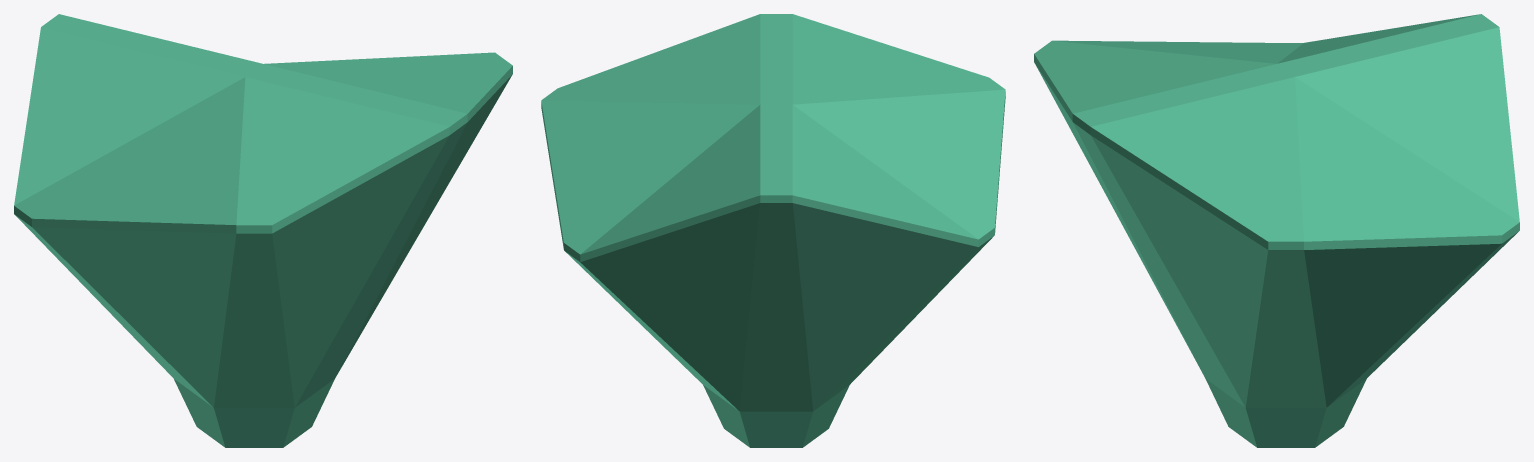
The model's file is cornLeafCollider.obj.
3 renders of one model, left to right at view 1: azimuth 30°, elevation 25°; view 2: azimuth 150°, elevation 25°; view 3: azimuth 270°, elevation 25°, orthographic. The views are drawn at different scales.
Visible parts, largest first — view 1: corn.002; view 2: corn.002; view 3: corn.002.
Part boxes in pixels (left/top/right/bottom): corn.002: left=14, top=14, right=512, bottom=447; corn.002: left=541, top=14, right=1005, bottom=447; corn.002: left=1034, top=14, right=1519, bottom=447.
Bounding box in the file's own units: 0.3432 × 0.2431 × 0.3002.
